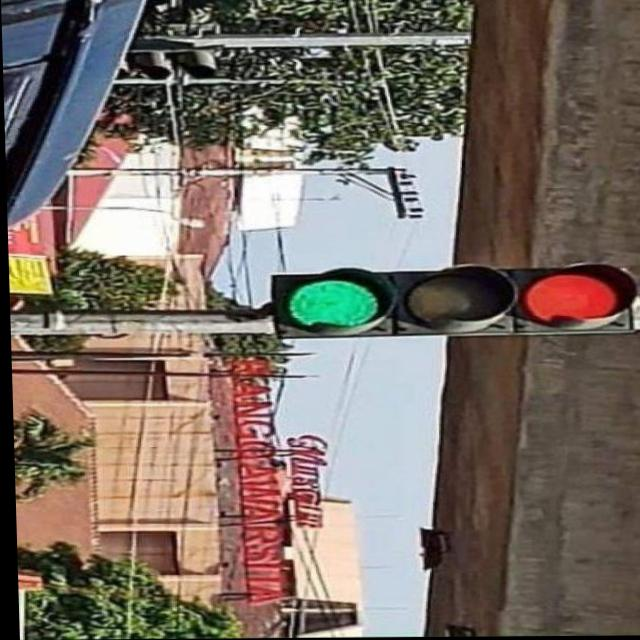green light: (269, 265, 522, 339)
